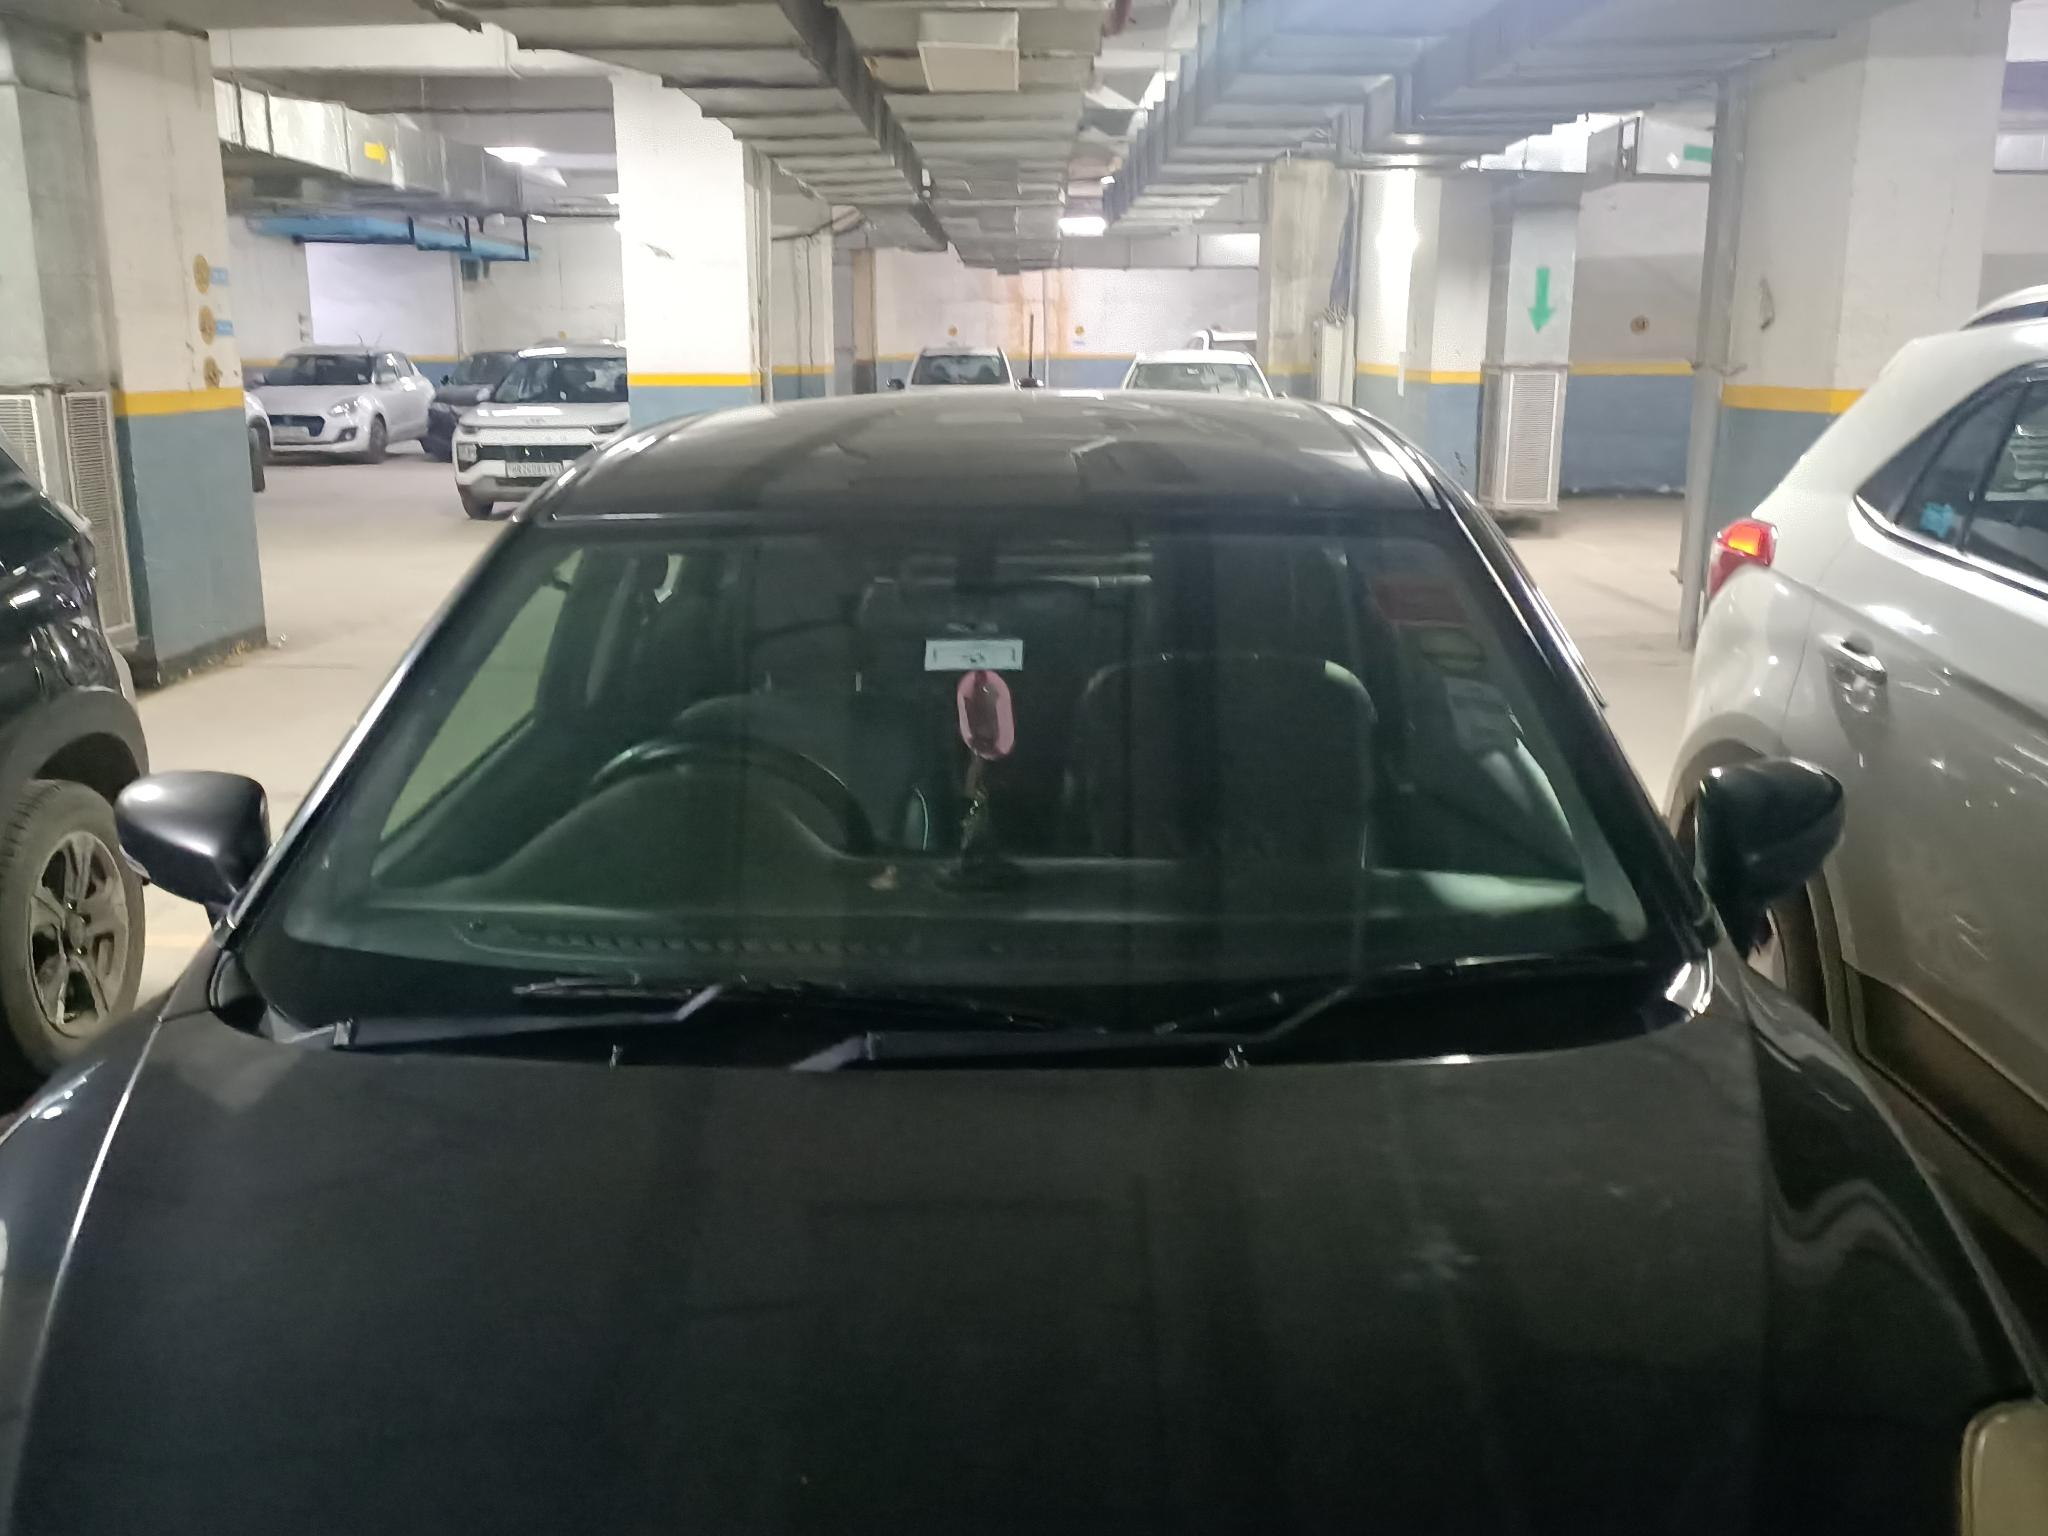FastTag: (913, 623, 1039, 679)
